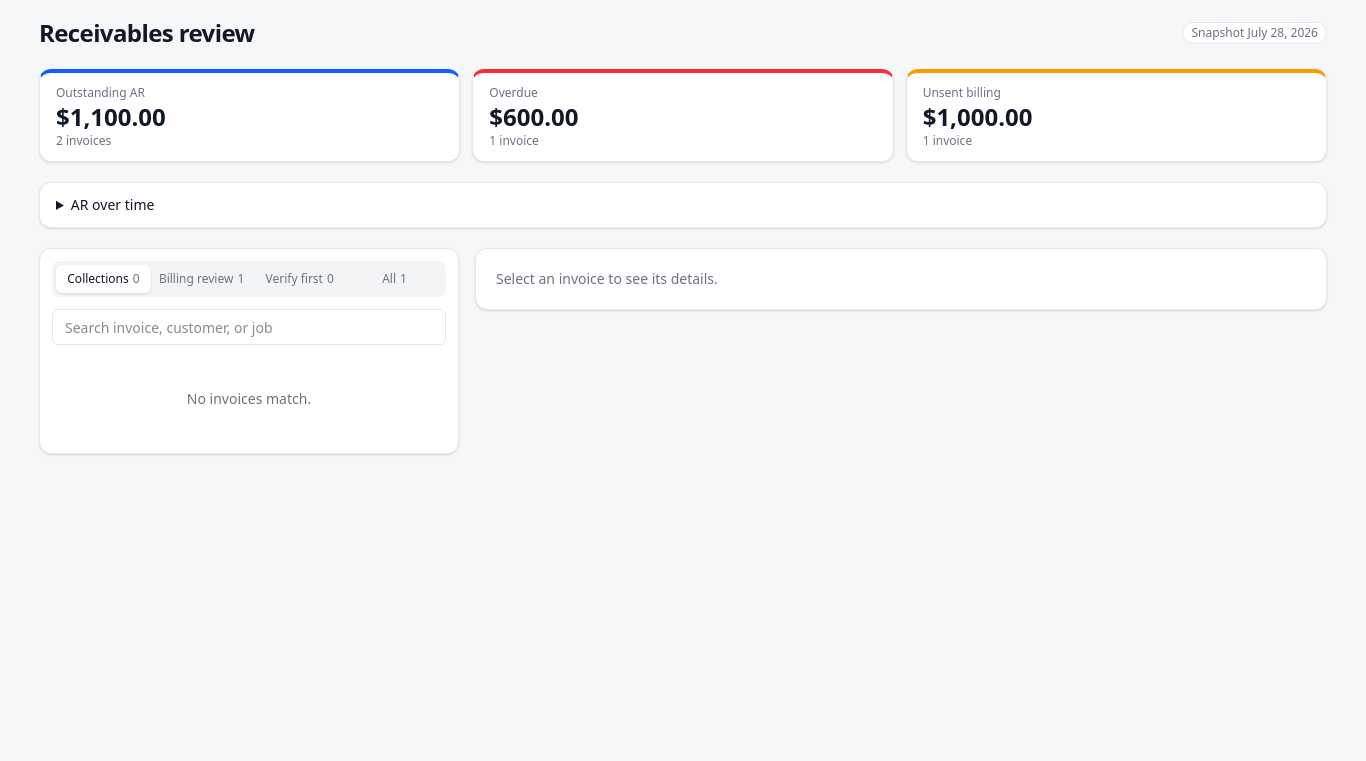
Test: unsent invoices show face value and billing status, not a collectible balance
Click the tab "All 1" at (395, 279), box x1=347 y1=265 x2=442 y2=293
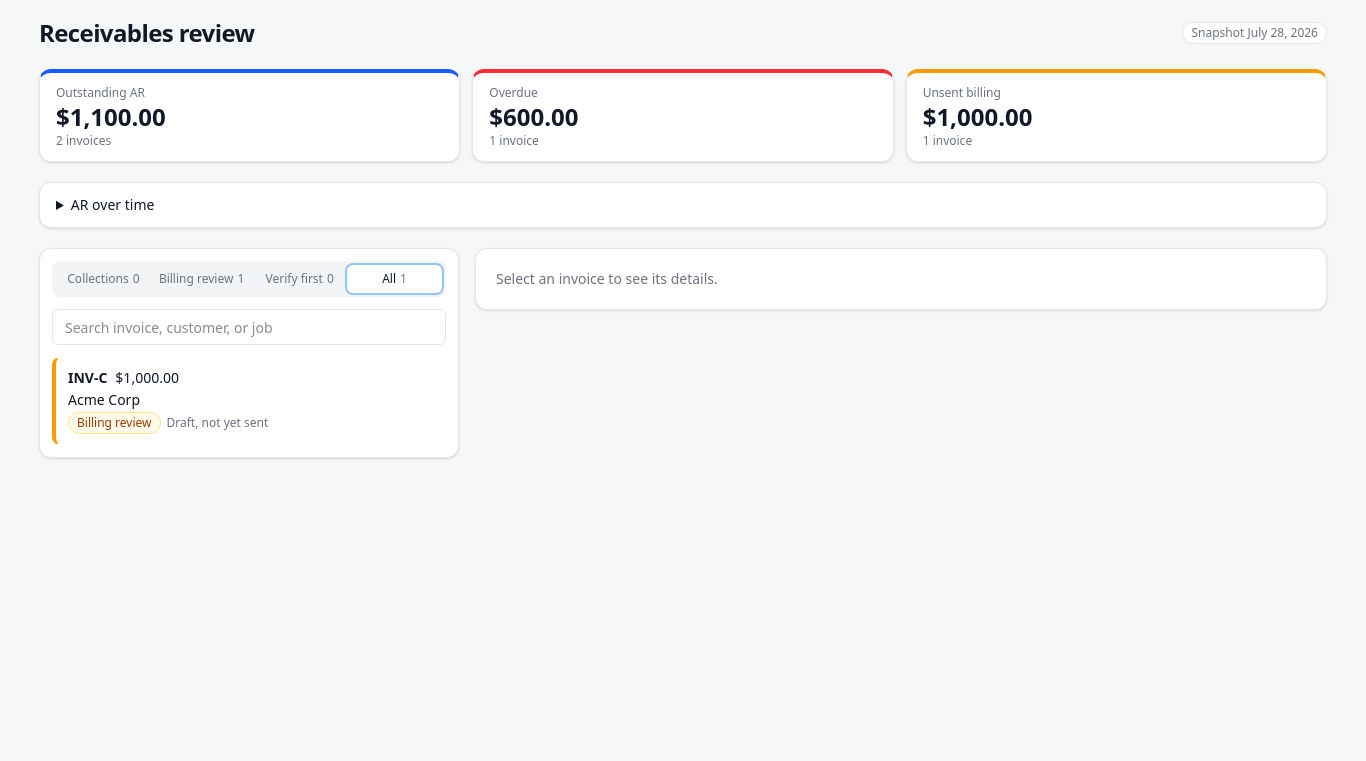
Click the button "INV-C $1,000.00 Acme Corp Billing review Draft, not yet sent" at (88, 378), box x1=52 y1=357 x2=446 y2=445
(page scrolled)
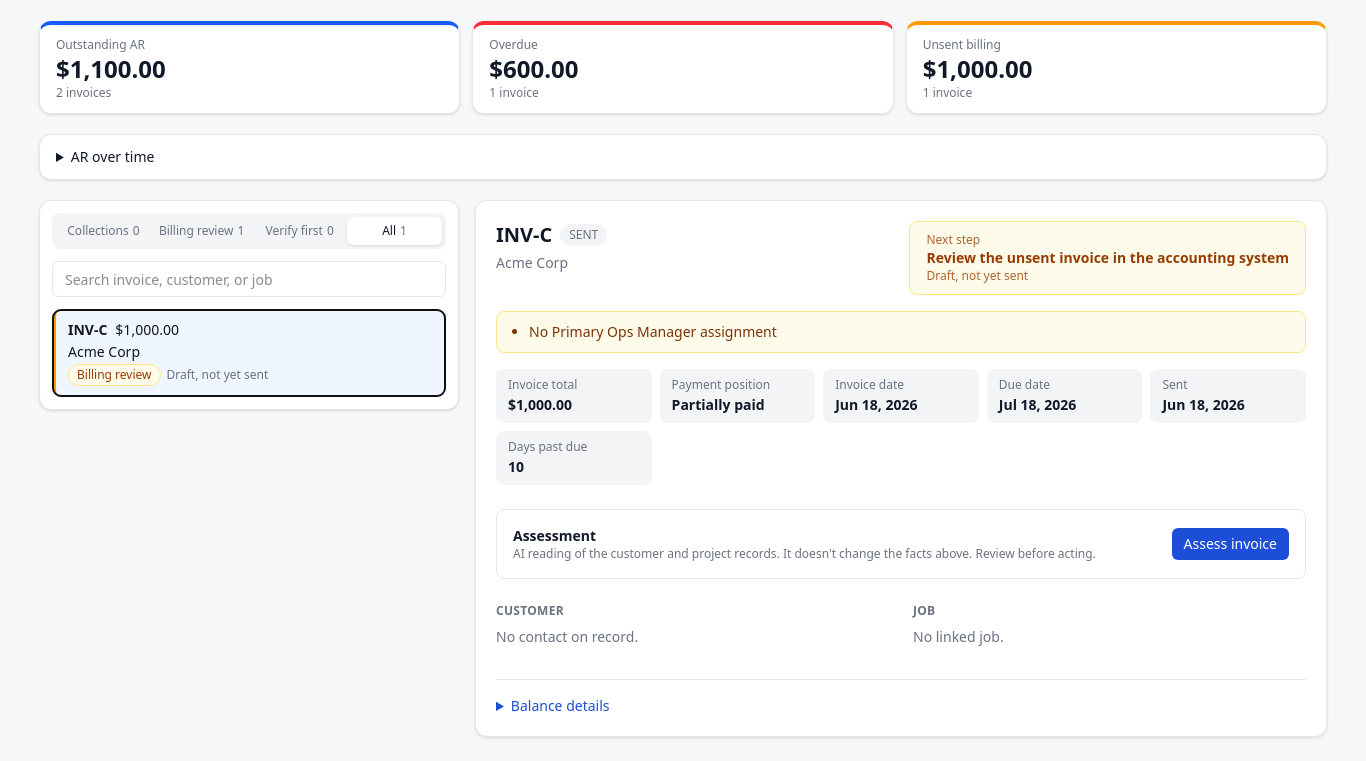
Click the heading "Balance details" at (560, 706), box x1=511 y1=696 x2=610 y2=715
(page scrolled)
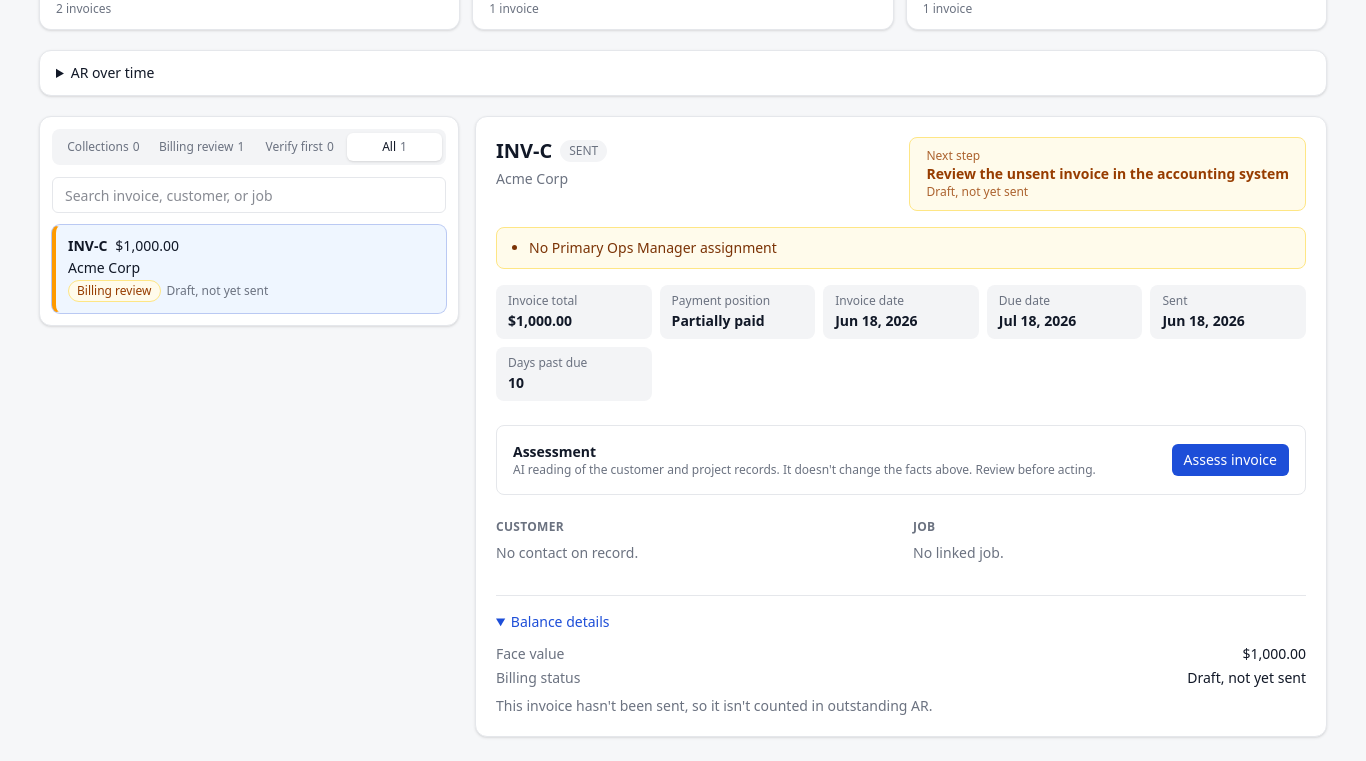
Expected: the text "$1,000.00" in the row of "Face value" is shown, x1=1242 y1=644 x2=1306 y2=663
Expected: the text "Draft, not yet sent" in the row of "Billing status" is shown, x1=1187 y1=668 x2=1306 y2=687
Expected: the text "isn't counted in outstanding AR" is shown, x1=496 y1=696 x2=932 y2=715
